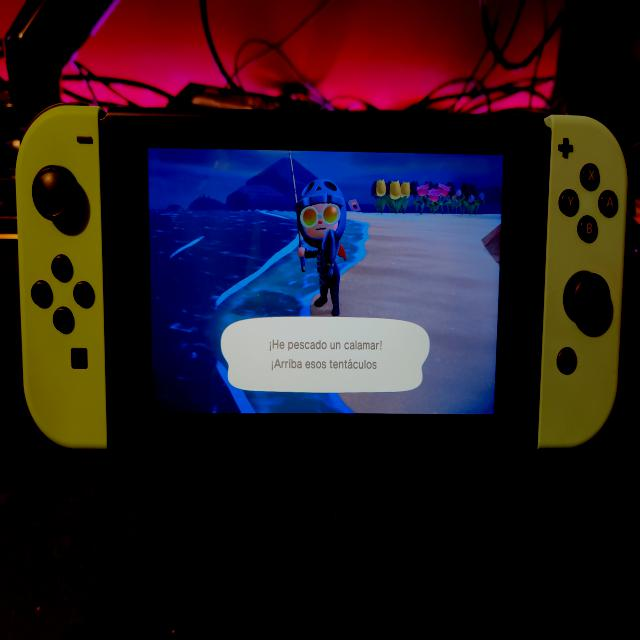text_bubble: (221, 315, 433, 398)
